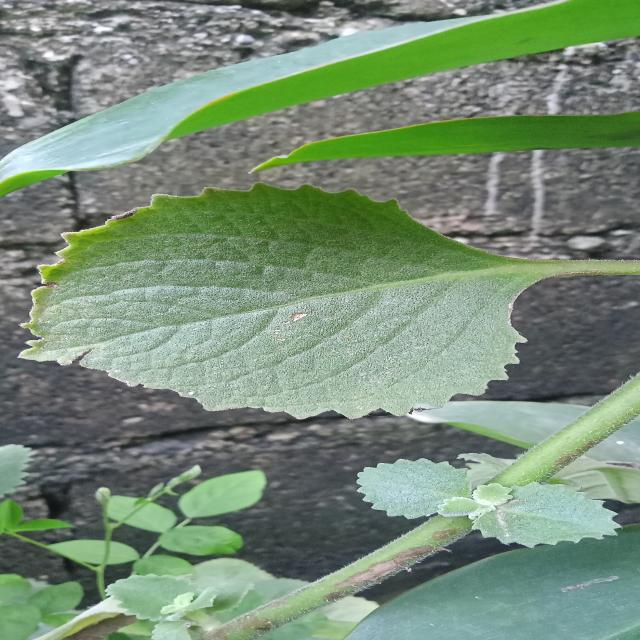Oregano: (5, 166, 578, 446)
